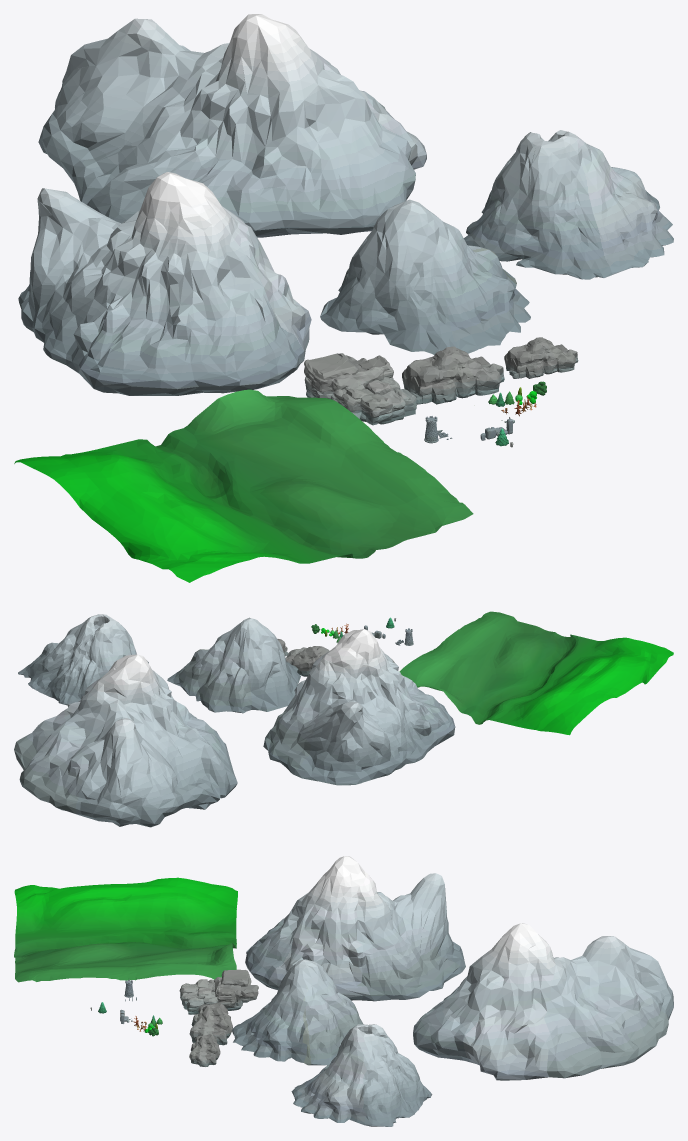
Rendered from Forest.fbx.
3 views of the same model, one above another, from view 1: azimuth 30°, elevation 25°; view 2: azimuth 150°, elevation 25°; view 3: azimuth 270°, elevation 25° (orthographic). The views are drawn at different scales.
Parts seen in each view (by area): view 1: Group19477, Plane, Group56823, Group14980, Group51674, MountRock, MountRock3, MountRock2; view 2: Group19477, Plane, Group56823, Group51674, Group14980, MountRock3; view 3: Group19477, Plane, Group56823, Group14980, Group51674, MountRock, MountRock3, MountRock2.
Boxes of the visible parts, x1,y1,x2,y2 form: Group19477: (38,14,426,237); Plane: (14,389,473,582); Group56823: (18,172,311,395); Group14980: (463,130,673,279); Group51674: (320,199,530,354); MountRock: (304,353,416,425); MountRock3: (402,346,504,404); MountRock2: (504,337,578,378); Group19477: (14,654,237,827); Plane: (399,611,673,735); Group56823: (263,629,455,785); Group51674: (167,617,300,713); Group14980: (18,614,148,705); MountRock3: (285,646,329,676); Group19477: (413,923,673,1080); Plane: (14,877,237,982); Group56823: (245,856,465,1001); Group14980: (291,1024,432,1126); Group51674: (231,959,363,1065); MountRock: (179,969,258,1014); MountRock3: (189,1002,232,1045); MountRock2: (189,1034,220,1066).
Size of the model in its own units: 18277 by 4458 by 21284.
3 materials, 3 textured.
